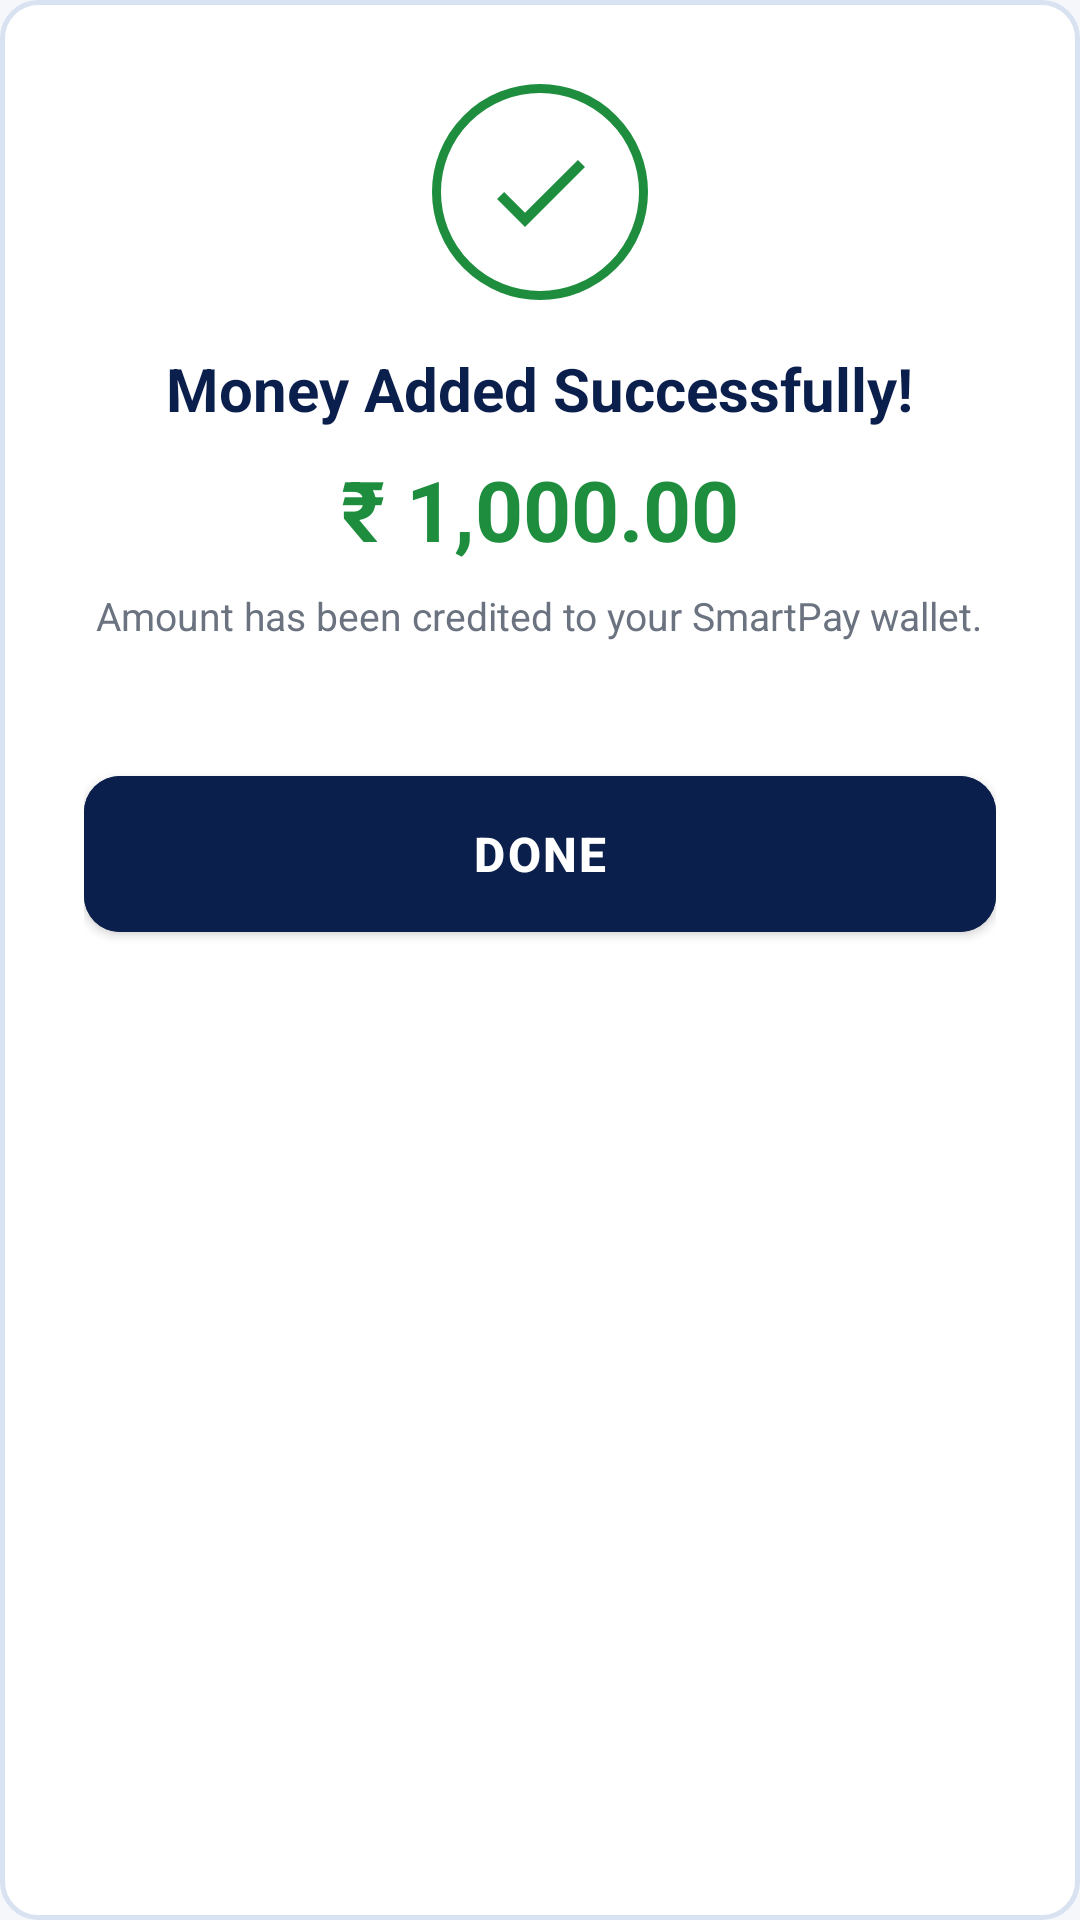

Named icons in this screenshot (1080 × 1920) and their bounding boxes, (x1, y1, x2, y2):
Success checkmark: (432, 84, 648, 300)
